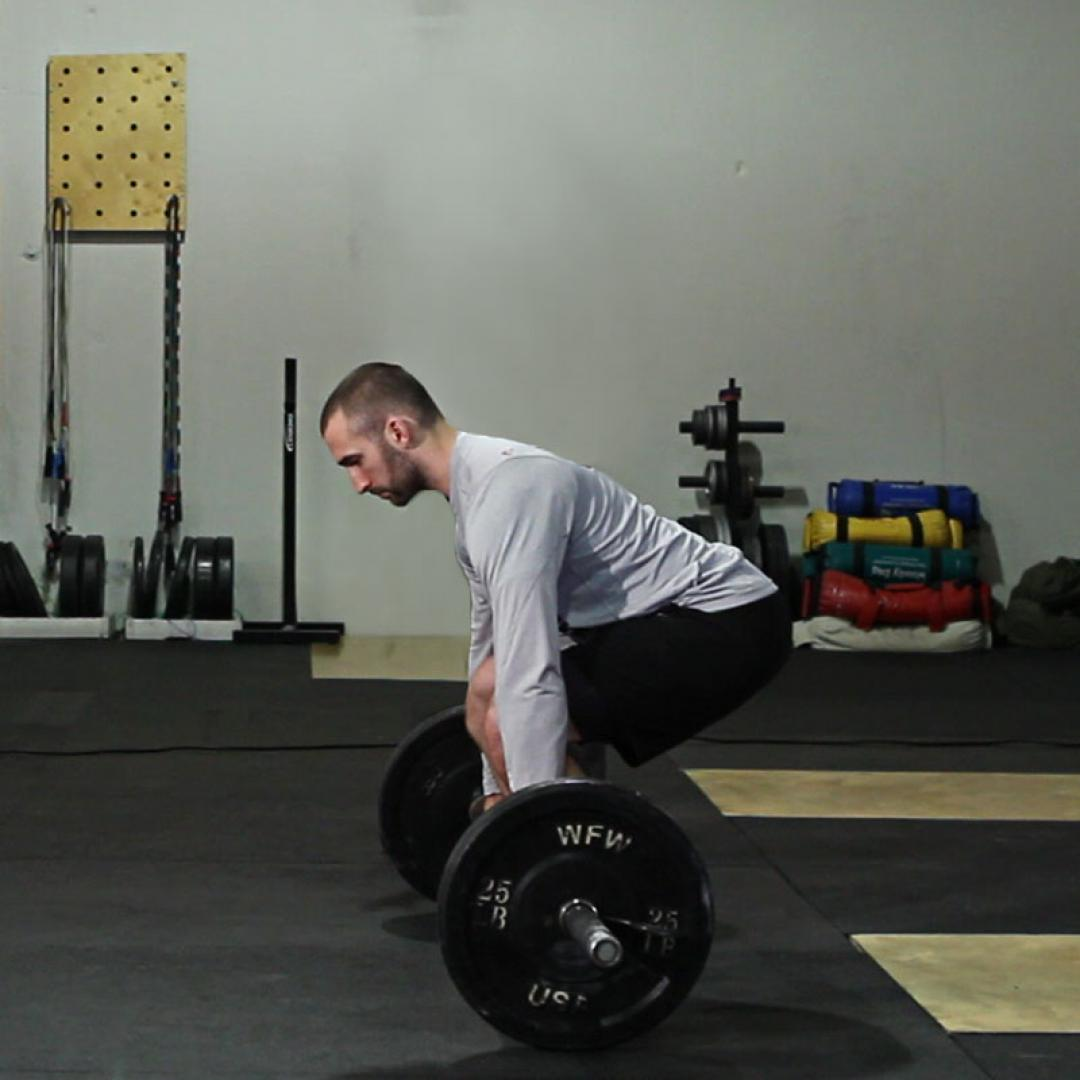Bar: (586, 933, 625, 971)
Barbell: (447, 780, 710, 1049)
